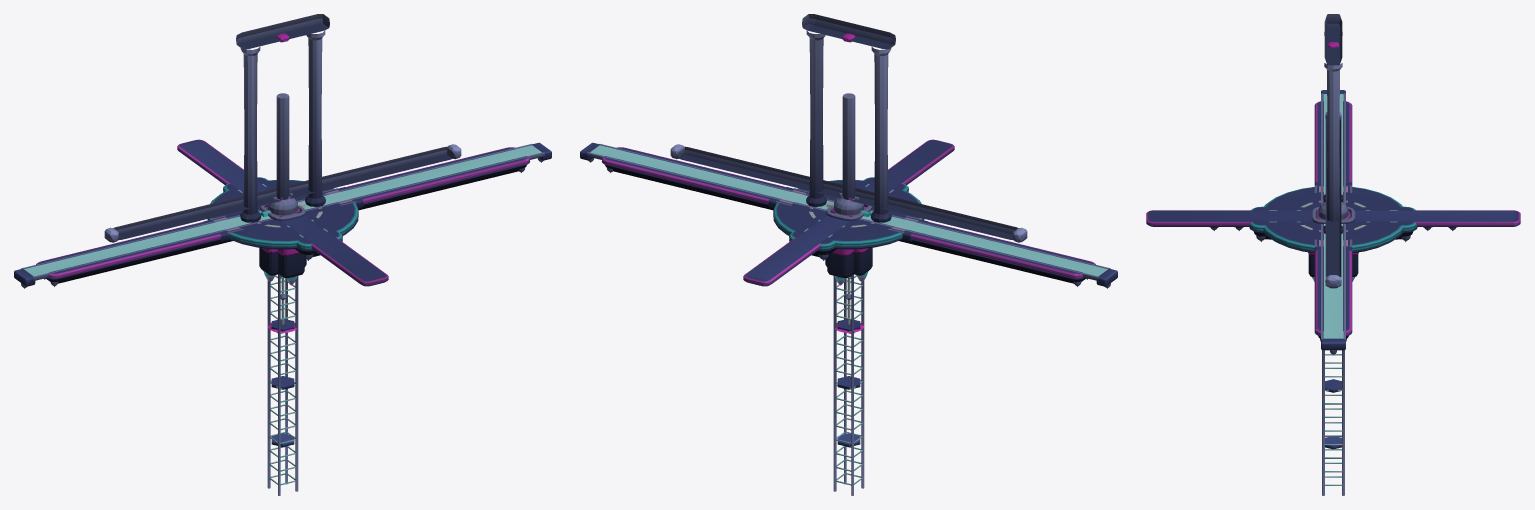
Rendered from core-3-B2UfW_pX.glb.
3 views of the same model, side by side, from view 1: azimuth 30°, elevation 25°; view 2: azimuth 150°, elevation 25°; view 3: azimuth 270°, elevation 25° (orthographic).
Parts seen in each view (by area): view 1: pressFrame_4x6x2x7#0, beam_48x1.5x2#1, block_44x2x3_grate#0, mount_15.6#0, block_2.5x2x30_grate#0, truss_24#0, press_2x6x4#0, truss_18#0, disc_12x1.5#0, block_44x2x2.5_grate#1, disc_10x1.5#1, block_4x2x13.5#0 (+1 smaller); view 2: pressFrame_4x6x2x7#0, beam_48x1.5x2#1, block_44x2x3_grate#0, mount_15.6#0, block_2.5x2x30_grate#0, truss_24#0, press_2x6x4#0, truss_18#0, disc_12x1.5#0, block_44x2x2.5_grate#1, disc_10x1.5#1, block_4x2x13.5#0 (+1 smaller); view 3: block_2.5x2x30_grate#0, beam_48x1.5x2#1, pressFrame_4x6x2x7#0, disc_12x1.5#0, block_44x2x3_grate#0, disc_10x1.5#1, mount_15.6#0, truss_24#0, block_4x2x13.5#0, block_44x2x2.5_grate#1, truss_18#0.
Part boxes in pixels (x1,y1,x2,y2): pressFrame_4x6x2x7#0: (236,14,329,222); beam_48x1.5x2#1: (14,142,551,288); block_44x2x3_grate#0: (36,147,530,286); mount_15.6#0: (104,144,461,242); block_2.5x2x30_grate#0: (177,139,388,286); truss_24#0: (267,274,298,495); press_2x6x4#0: (276,93,304,285); truss_18#0: (269,274,298,426); disc_12x1.5#0: (207,180,358,249); block_44x2x2.5_grate#1: (38,148,526,272); disc_10x1.5#1: (225,186,341,235); block_4x2x13.5#0: (223,177,342,260); pressFrame_4x6x2x7#0: (802,14,895,222); beam_48x1.5x2#1: (580,142,1117,288); block_44x2x3_grate#0: (601,147,1095,286); mount_15.6#0: (670,144,1027,242); block_2.5x2x30_grate#0: (743,139,954,286); truss_24#0: (833,274,864,495); press_2x6x4#0: (827,93,855,285); truss_18#0: (833,274,862,426); disc_12x1.5#0: (773,180,924,249); block_44x2x2.5_grate#1: (605,148,1093,272); disc_10x1.5#1: (790,186,906,235); block_4x2x13.5#0: (789,177,908,260); block_2.5x2x30_grate#0: (1146,210,1520,226); beam_48x1.5x2#1: (1321,90,1345,355); pressFrame_4x6x2x7#0: (1323,14,1343,233); disc_12x1.5#0: (1263,187,1403,253); block_44x2x3_grate#0: (1314,101,1352,341); disc_10x1.5#1: (1277,192,1389,240); mount_15.6#0: (1325,112,1341,288); truss_24#0: (1322,350,1344,495); block_4x2x13.5#0: (1249,206,1417,241); block_44x2x2.5_grate#1: (1320,101,1346,331); truss_18#0: (1324,350,1342,427).
Bounding box in the file's own units: 48 × 40.4 × 30.
